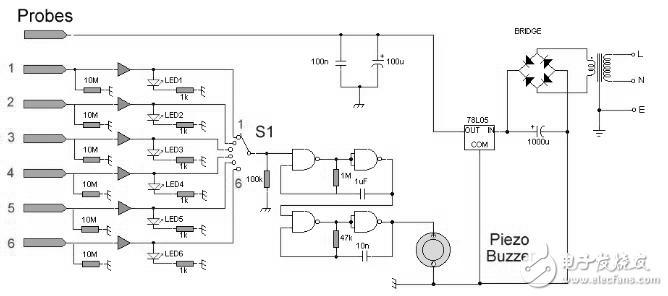bridge: (516, 52, 559, 95)
cap1: (332, 58, 349, 69), (359, 249, 370, 264), (357, 186, 367, 201)
cap2: (529, 123, 547, 140), (370, 57, 386, 70)
diode: (146, 76, 164, 88), (145, 112, 164, 123), (146, 216, 164, 227), (147, 182, 165, 192), (146, 251, 163, 261), (147, 148, 164, 157)
gnd: (591, 127, 608, 138)
res1: (262, 166, 273, 191), (174, 120, 196, 130), (175, 189, 197, 199), (81, 85, 103, 95), (174, 85, 195, 95), (79, 225, 100, 235), (81, 259, 102, 269), (81, 155, 101, 165), (332, 167, 341, 189), (174, 156, 196, 165), (81, 121, 103, 130), (332, 229, 341, 250), (175, 224, 196, 233), (175, 259, 195, 268), (81, 190, 101, 199)
trans: (583, 53, 616, 85)
